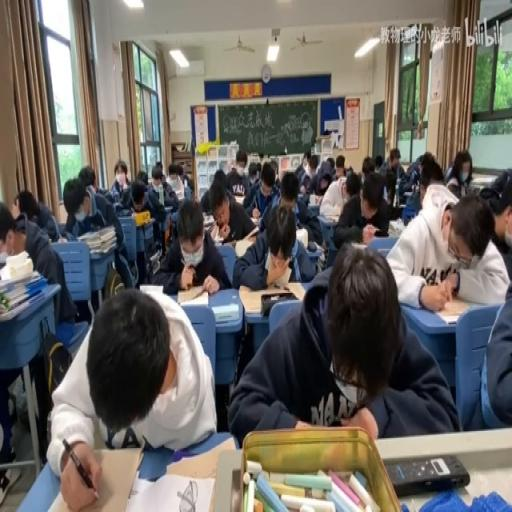calculator: (128, 469, 216, 509), (162, 434, 235, 480), (239, 280, 303, 313), (432, 298, 470, 322), (212, 302, 238, 322), (177, 288, 206, 304), (138, 283, 164, 296), (294, 224, 308, 248), (132, 209, 150, 226), (386, 218, 402, 236), (148, 248, 160, 270), (309, 239, 325, 252), (202, 215, 214, 232), (350, 240, 366, 250), (309, 194, 322, 206), (322, 213, 338, 222), (0, 250, 7, 268), (403, 189, 415, 199), (157, 185, 163, 205), (222, 239, 236, 247), (233, 193, 245, 202), (55, 235, 67, 243), (250, 216, 260, 225), (162, 203, 172, 212), (296, 190, 306, 198), (397, 202, 406, 210)
paper: (230, 248, 454, 442), (48, 283, 218, 509), (0, 195, 76, 465), (385, 182, 509, 309), (64, 172, 132, 294), (462, 267, 510, 428), (152, 196, 229, 296), (233, 199, 315, 289), (336, 166, 394, 249), (477, 168, 512, 222), (198, 169, 234, 218), (147, 165, 179, 212), (443, 149, 472, 199), (382, 148, 405, 202), (32, 199, 62, 240), (226, 148, 248, 196), (418, 154, 444, 194), (110, 158, 131, 199), (14, 189, 38, 223), (293, 154, 313, 194), (278, 171, 298, 206), (77, 165, 97, 196), (0, 211, 14, 247), (246, 162, 260, 188), (176, 162, 187, 188), (345, 174, 358, 196), (406, 166, 420, 185), (361, 155, 374, 174), (269, 156, 279, 180), (131, 193, 144, 209), (373, 152, 383, 172), (135, 168, 147, 183), (334, 154, 345, 170), (308, 155, 318, 172), (183, 184, 192, 199), (326, 156, 334, 170), (154, 160, 164, 170)
person: (386, 454, 470, 496), (373, 229, 389, 236)
